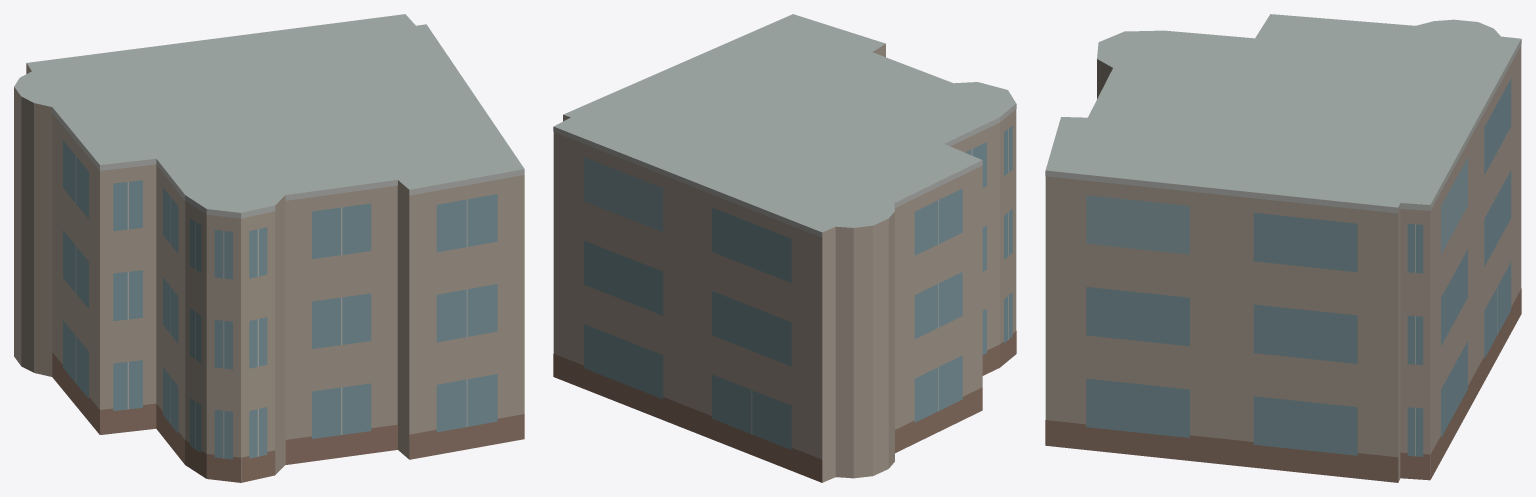
Rendered from survey-upis-32774538.glb.
The picture shows the model from 3 angles, left to right: view 1: azimuth 30°, elevation 25°; view 2: azimuth 150°, elevation 25°; view 3: azimuth 270°, elevation 25°; orthographic projection. The views are drawn at different scales.
Parts seen in each view (by area): view 1: survey-upis-32774538.tmp; view 2: survey-upis-32774538.tmp; view 3: survey-upis-32774538.tmp.
Boxes of the visible parts, bbox=[...] form: survey-upis-32774538.tmp: bbox=[14, 14, 524, 482]; survey-upis-32774538.tmp: bbox=[553, 14, 1016, 482]; survey-upis-32774538.tmp: bbox=[1045, 14, 1521, 482].
Size of the model in its own units: 17.37 by 11.5 by 18.04.
